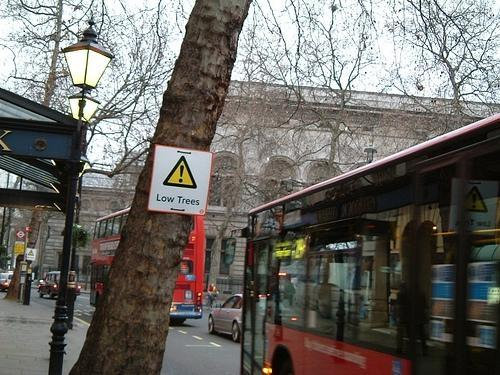bicycle: (206, 292, 222, 310)
bus: (238, 113, 499, 370), (87, 204, 209, 328)
car: (207, 294, 243, 342), (38, 270, 60, 298), (0, 272, 14, 290)
